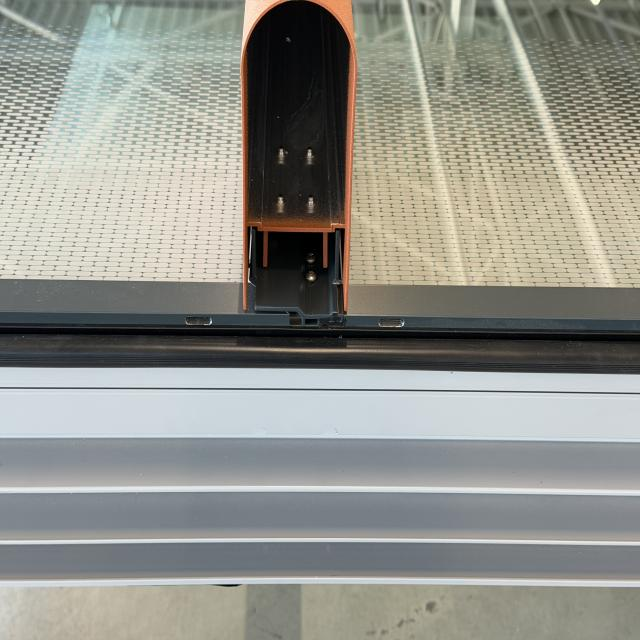ok: (2, 5, 640, 590)
